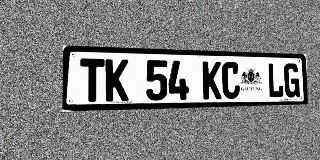4: (168, 60, 189, 100)
5: (146, 60, 168, 101)
C: (222, 62, 240, 99)
G: (284, 63, 300, 98)
K: (105, 59, 129, 101), (202, 61, 221, 99)
L: (267, 63, 284, 98)
T: (80, 58, 105, 102)
